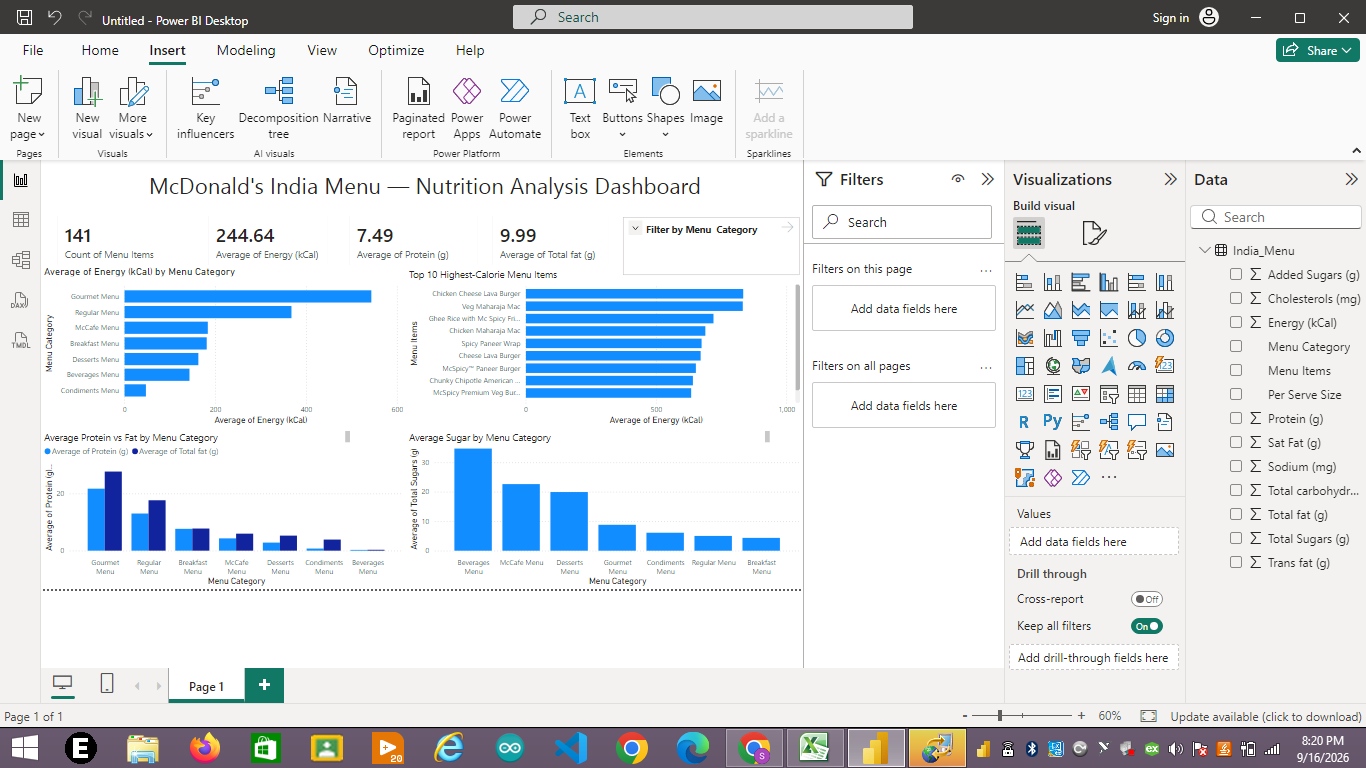

The page's visual inventory and layout, read from the dashboard file:
{"tool":"powerbi","page":{"name":"Page 1","canvas":[1280,720],"ordinal":0},"visuals":[{"type":"cardVisual","fields":{"Data":["CountNonNull(India_Menu.Menu Items)"]},"box":[10.1,72.2,253.6,126],"z":0},{"type":"cardVisual","fields":{"Data":["Avg(India_Menu.Energy (kCal))"]},"box":[263.7,72.2,236.9,126],"z":1},{"type":"cardVisual","fields":{"Data":["Avg(India_Menu.Protein (g))"]},"box":[500.6,72.2,250.3,126],"z":2},{"type":"cardVisual","fields":{"Data":["Avg(India_Menu.Total fat (g))"]},"box":[740.8,72.2,231.8,126],"z":3},{"type":"clusteredBarChart","fields":{"Category":["India_Menu.Menu Category"],"Y":["Avg(India_Menu.Energy (kCal))"]},"box":[0,176.4,613.1,273.8],"z":4},{"type":"clusteredBarChart","fields":{"Category":["India_Menu.Menu Items"],"Y":["Avg(India_Menu.Energy (kCal))"]},"box":[613.1,176.4,666.9,273.8],"z":5},{"type":"textSlicer","fields":{"Values":["India_Menu.Menu Category"]},"box":[972.6,72.2,307.4,126],"z":6},{"type":"clusteredColumnChart","fields":{"Category":["India_Menu.Menu Category"],"Y":["Avg(India_Menu.Protein (g))","Avg(India_Menu.Total fat (g))"]},"box":[0,450.2,613.1,270.4],"z":7},{"type":"clusteredColumnChart","fields":{"Category":["India_Menu.Menu Category"],"Y":["Avg(India_Menu.Total Sugars (g))"]},"box":[613.1,450.2,666.9,270.4],"z":8},{"type":"textbox","box":[10.1,11.8,1269.9,82.3],"z":9},{"type":"textbox","box":[613.1,176.4,334.3,33.6],"z":10},{"type":"textbox","box":[613.1,450.2,598,30.2],"z":11},{"type":"textbox","box":[0,450.2,524.1,30.2],"z":12},{"type":"textbox","box":[1011.2,100.8,218.4,35.3],"z":13},{"type":"textbox","box":[613.1,450.2,616.5,30.2],"z":14}]}

Visuals, with their boxes on the page's 1280x720 design canvas (x1, y1, x2, y2). These are canvas units, not pixel positions in the 1366x768 screenshot, which may show the page scaled, cropped or inside an application window:
cardVisual - CountNonNull(India_Menu.Menu Items): <box>10,72,264,198</box>
cardVisual - Avg(India_Menu.Energy (kCal)): <box>264,72,501,198</box>
cardVisual - Avg(India_Menu.Protein (g)): <box>501,72,751,198</box>
cardVisual - Avg(India_Menu.Total fat (g)): <box>741,72,973,198</box>
clusteredBarChart - India_Menu.Menu Category x Avg(India_Menu.Energy (kCal)): <box>0,176,613,450</box>
clusteredBarChart - India_Menu.Menu Items x Avg(India_Menu.Energy (kCal)): <box>613,176,1280,450</box>
textSlicer - India_Menu.Menu Category: <box>973,72,1280,198</box>
clusteredColumnChart - India_Menu.Menu Category x Avg(India_Menu.Protein (g)): <box>0,450,613,721</box>
clusteredColumnChart - India_Menu.Menu Category x Avg(India_Menu.Total Sugars (g)): <box>613,450,1280,721</box>
textbox: <box>10,12,1280,94</box>
textbox: <box>613,176,947,210</box>
textbox: <box>613,450,1211,480</box>
textbox: <box>0,450,524,480</box>
textbox: <box>1011,101,1230,136</box>
textbox: <box>613,450,1230,480</box>
